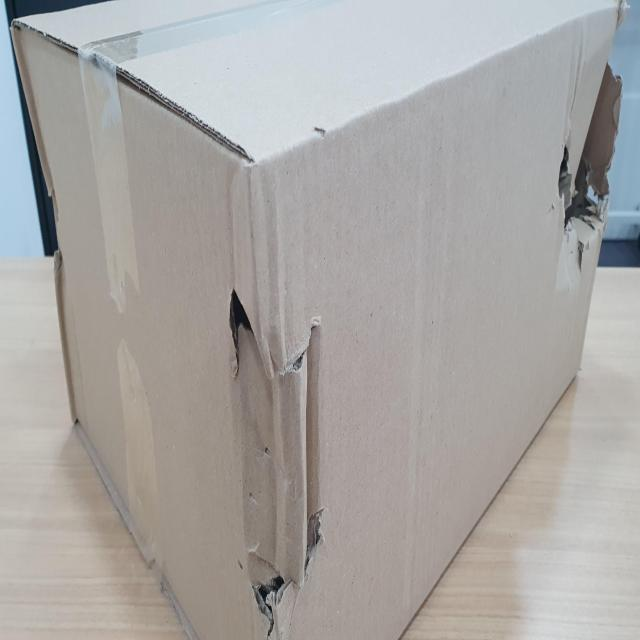damaged: (224, 279, 328, 640), (554, 68, 624, 290)
